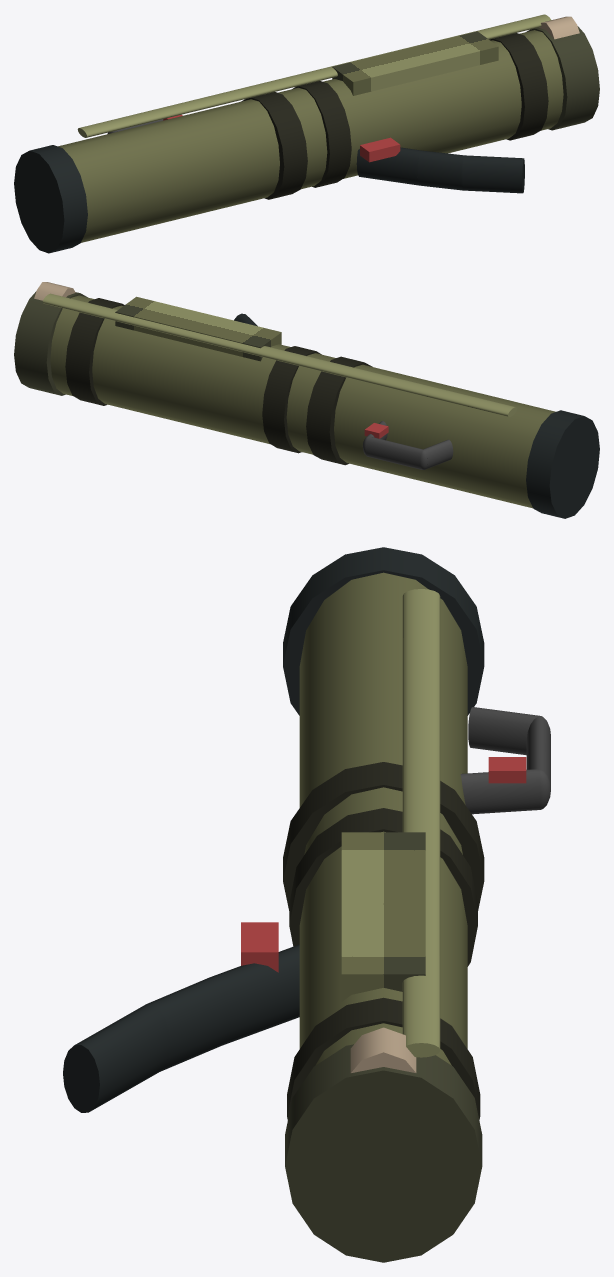
The model's file is CMU3DWorldRMCWeaponLauncherDisposableCloud.glb.
3 views of the same model, one above another, from view 1: azimuth 30°, elevation 25°; view 2: azimuth 150°, elevation 25°; view 3: azimuth 270°, elevation 25° (orthographic). The views are drawn at different scales.
Visible parts, largest first — view 1: olive outer tube, exterior tube collar 34.3, original olive tube highlights, tube bright long band, exterior tube collar 62.0, exterior tube collar 46.4, exterior tube collar 59.7, exterior tube collar 49, source angled lower grip member 3, source angled lower grip member 1, source angled lower grip member 2, red lower switch (+1 smaller); view 2: olive outer tube, exterior tube collar 34.3, tube bright long band, original olive tube highlights, exterior tube collar 62.0, exterior tube collar 46.4, exterior tube collar 59.7, exterior tube collar 49, small top carry loop member 2, small top carry loop member 1, tan end band; view 3: olive outer tube, exterior tube collar 62.0, tube bright long band, original olive tube highlights, exterior tube collar 34.3, source angled lower grip member 3, exterior tube collar 46.4, exterior tube collar 49, source angled lower grip member 1, exterior tube collar 59.7, source angled lower grip member 2, small top carry loop member 3 (+5 smaller).
Boxes of the visible parts, x1,y1,x2,y2 form: olive outer tube: (58, 30, 563, 242); exterior tube collar 34.3: (14, 145, 87, 253); original olive tube highlights: (332, 31, 498, 95); tube bright long band: (77, 14, 551, 137); exterior tube collar 62.0: (526, 26, 599, 130); exterior tube collar 46.4: (241, 92, 307, 199); exterior tube collar 59.7: (489, 33, 548, 140); exterior tube collar 49: (293, 81, 351, 187); source angled lower grip member 3: (462, 155, 524, 193); source angled lower grip member 1: (356, 147, 421, 185); source angled lower grip member 2: (418, 150, 464, 190); red lower switch: (360, 137, 400, 162); olive outer tube: (50, 295, 555, 508); exterior tube collar 34.3: (526, 410, 599, 518); tube bright long band: (42, 293, 517, 417); original olive tube highlights: (115, 296, 281, 361); exterior tube collar 62.0: (14, 291, 87, 395); exterior tube collar 46.4: (306, 356, 372, 465); exterior tube collar 59.7: (65, 298, 124, 405); exterior tube collar 49: (262, 346, 321, 453); small top carry loop member 2: (365, 436, 422, 469); small top carry loop member 1: (423, 439, 453, 469); tan end band: (34, 282, 75, 300); olive outer tube: (299, 572, 467, 1065); exterior tube collar 62.0: (285, 1044, 482, 1262); tube bright long band: (402, 589, 440, 1057); original olive tube highlights: (341, 832, 425, 1001); exterior tube collar 34.3: (283, 547, 484, 715); source angled lower grip member 3: (63, 1004, 170, 1112); exterior tube collar 46.4: (283, 762, 484, 910); exterior tube collar 49: (289, 808, 477, 966); source angled lower grip member 1: (210, 944, 299, 1045); exterior tube collar 59.7: (287, 997, 480, 1120); source angled lower grip member 2: (147, 977, 231, 1071); small top carry loop member 3: (460, 769, 540, 814).
Bounding box in the file's own units: 0.9219 × 0.17 × 0.3635.
Materials: 9 (1 with a texture image).
